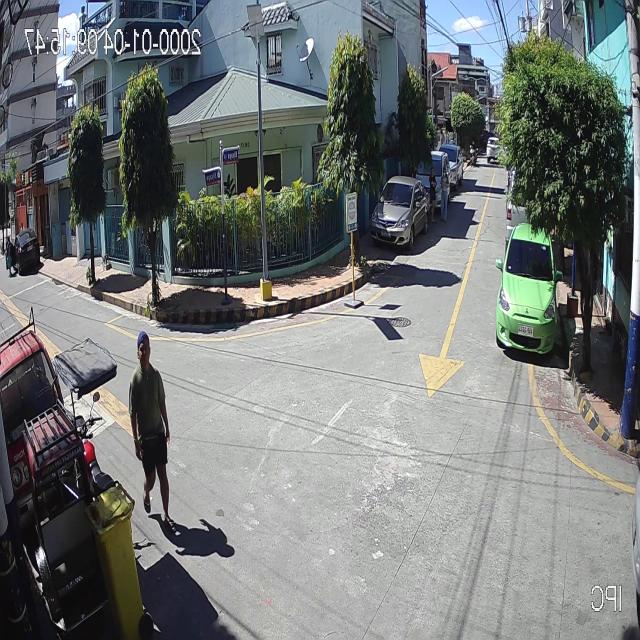walking: (129, 329, 175, 528)
